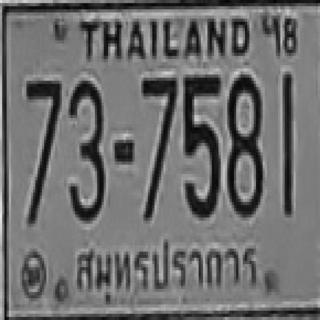N01: (282, 71, 292, 211)
N03: (66, 78, 104, 221)
N05: (182, 71, 220, 211), (181, 73, 218, 157)
N07: (24, 76, 60, 222), (140, 73, 175, 216), (24, 78, 60, 202), (24, 76, 60, 175), (140, 73, 175, 169), (140, 74, 175, 158)
N08: (225, 72, 260, 215)
P57: (62, 233, 267, 307)
